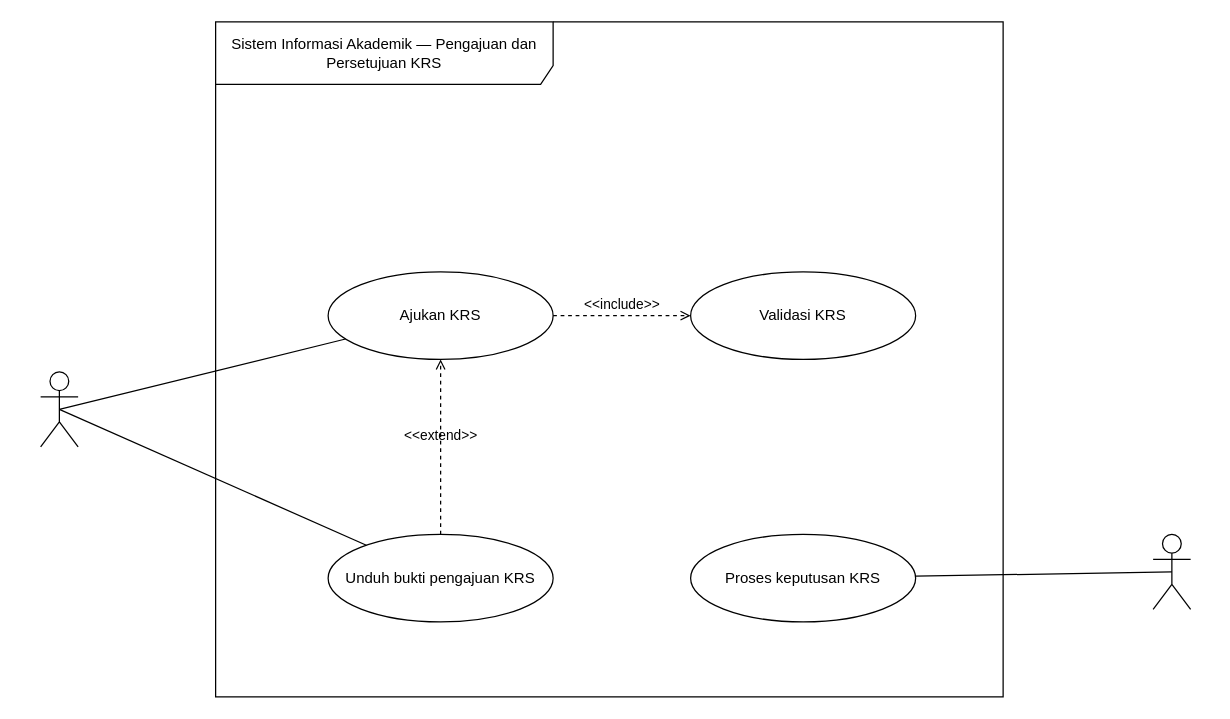
Image size: 1230x719. Some labels were removed from this diagram. Here are the shapes that lost their labels. From the top down, the box of each, then its label:
(39, 371, 78, 447): Mahasiswa
(1152, 533, 1191, 609): Dosen wali
